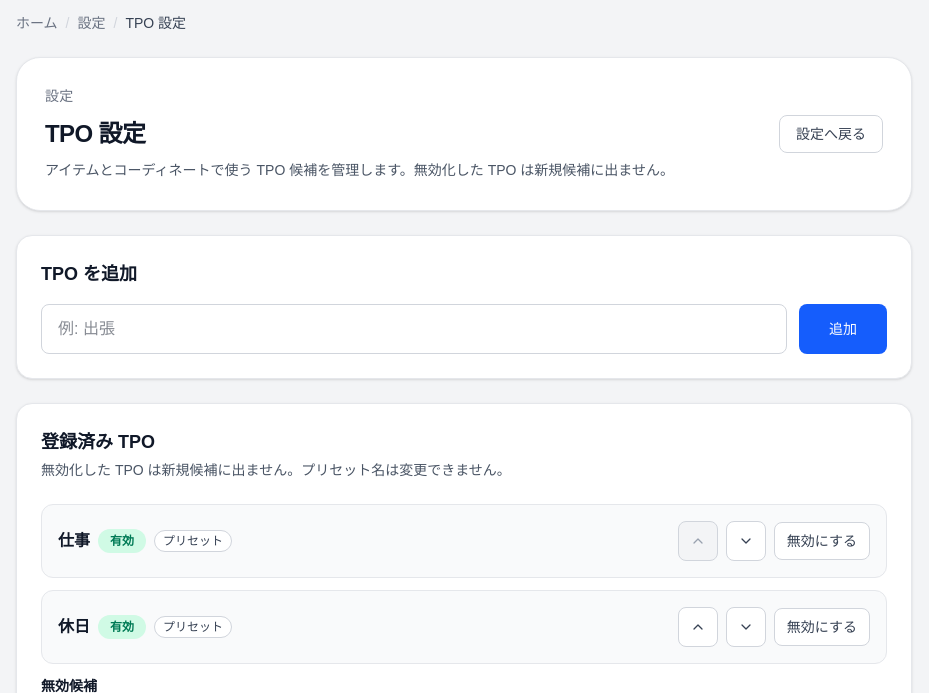
Test: SettingsTposPage › 並び順更新失敗でも raw message を表示しない
The image size is (929, 693).
Click the button named "仕事 を 1 つ下へ移動": point(746, 541) [726, 521, 766, 561]
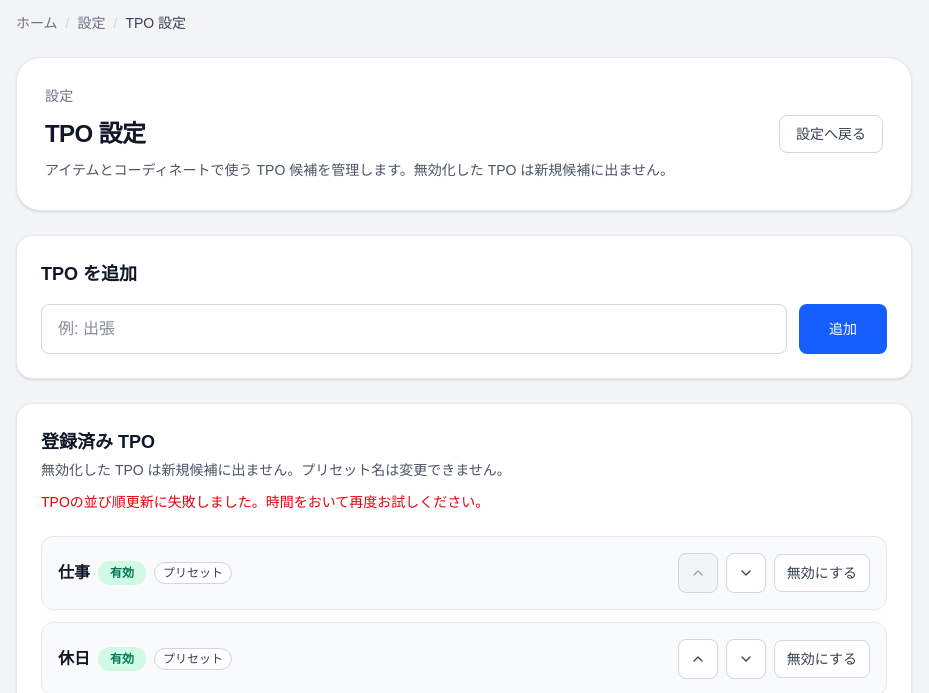
Expected: the text "TPOの並び順更新に失敗しました。時間をおいて再度お試しください。" is shown, [41, 494, 489, 510]
